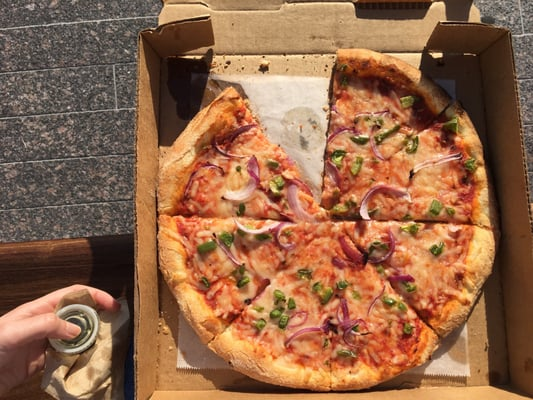sandwich: (155, 54, 497, 390)
